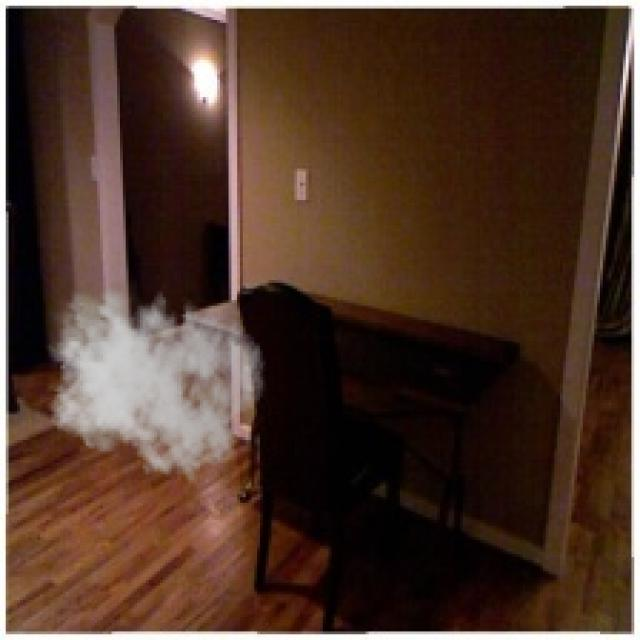smoke: (43, 277, 266, 483)
